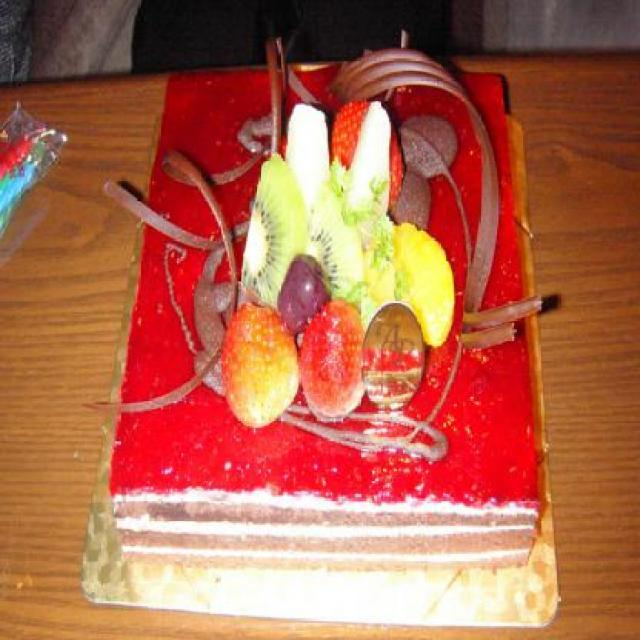Strawberry: (222, 302, 300, 426), (328, 99, 406, 212), (303, 292, 365, 386)
